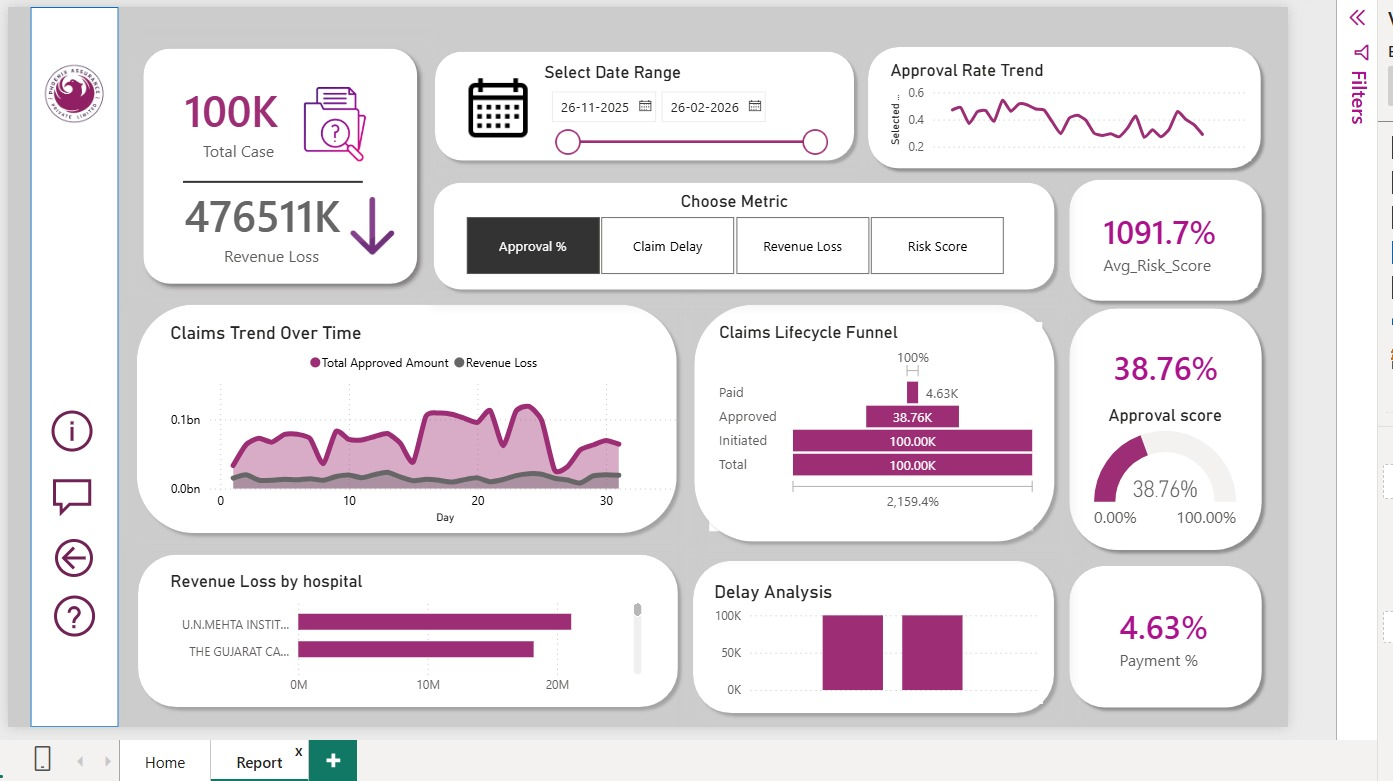

The page's visual inventory and layout, read from the dashboard file:
{"tool":"powerbi","page":{"name":"Report","canvas":[1280,720],"ordinal":1},"visuals":[{"type":"shape","box":[126.7,32.6,292,253.4],"z":0},{"type":"cardVisual","fields":{"Data":["ClaimsData.Total Case"]},"box":[147.2,55.5,166.5,117],"z":1000},{"type":"shape","box":[22.9,0,88.1,720.2],"z":2000},{"type":"cardVisual","fields":{"Data":["ClaimsData.Revenue Loss"]},"box":[147.2,165.3,232.8,107.4],"z":3000},{"type":"shape","box":[174.9,32.6,179.8,284.7],"z":4000},{"type":"shape","box":[419.8,37.4,433.1,123.1],"z":5000},{"type":"actionButton","box":[719,82.3,100.2,39.8],"z":6000},{"type":"image","box":[431.9,71.2,115.8,59.1],"z":7000},{"type":"slicer","title":"Select Date Range","fields":{"Values":["ClaimsData.claim_init_date"]},"box":[530.8,55.5,296.8,105],"z":8000},{"type":"shape","box":[121.9,289.5,555,243.7],"z":9000},{"type":"areaChart","title":"Claims Trend Over Time","fields":{"Y":["ClaimsData.Total Approved Amount","ClaimsData.Revenue Loss"],"Category":["ClaimsData.claim_init_date.Variation.Date Hierarchy.Year","ClaimsData.claim_init_date.Variation.Date Hierarchy.Quarter","ClaimsData.claim_init_date.Variation.Date Hierarchy.Month","ClaimsData.claim_init_date.Variation.Date Hierarchy.Day"]},"box":[158,311.3,520,212.3],"z":10000},{"type":"shape","box":[1053.2,165.3,207.5,136.3],"z":11000},{"type":"cardVisual","fields":{"Data":["ClaimsData.Avg_Risk_Score"]},"box":[1066.5,183.4,188.2,102.5],"z":12000},{"type":"shape","box":[1053.2,294.4,207.5,257],"z":13000},{"type":"cardVisual","fields":{"Data":["ClaimsData.Approval %"]},"box":[1076.1,320.9,168.9,76],"z":14000},{"type":"gauge","fields":{"Y":["ClaimsData.Approval %"]},"box":[1081,396.9,152,136.3],"z":15000},{"type":"shape","box":[1053.2,551.3,207.5,156.8],"z":16000},{"type":"cardVisual","fields":{"Data":["ClaimsData.Payment %"]},"box":[1082.2,579.1,156.8,102.5],"z":17000},{"type":"shape","box":[123.1,540.5,555,167.7],"z":18000},{"type":"clusteredBarChart","fields":{"Category":["ClaimsData.hospital_name"],"Y":["ClaimsData.Revenue Loss"]},"box":[158,563.4,481.4,132.7],"z":19000},{"type":"shape","box":[677.9,546.1,376,167.4],"z":20000},{"type":"clusteredColumnChart","title":"Delay Analysis","fields":{"Category":["DelayType.Type"],"Y":["CountNonNull(ClaimsData.payment_delay)1"]},"box":[701.2,573.6,333.4,123.5],"z":21000},{"type":"funnel","box":[701.2,347.2,323.8,177],"z":22000},{"type":"shape","box":[679.2,289.5,375.2,252.1],"z":23000},{"type":"funnel","title":"Claims Lifecycle Funnel","fields":{"Y":["CountNonNull(ClaimsData.payment_paid_dt)","CountNonNull(ClaimsData.claim_approved_date)","CountNonNull(ClaimsData.claim_init_date)","CountNonNull(ClaimsData.case_id)"]},"box":[705.8,314.9,328.2,194.2],"z":24000},{"type":"image","box":[0,53.1,126.7,70],"z":25000},{"type":"shape","box":[418.6,168.9,634.6,120.6],"z":26000},{"type":"slicer","title":"Choose Metric","fields":{"Values":["KPI Selector.Metric"]},"box":[431.9,183.4,587.5,90.5],"z":27000},{"type":"shape","title":"“KPI Trend Analysis","box":[853,32.6,407.8,136.3],"z":28000},{"type":"lineChart","fields":{"Category":["ClaimsData.claim_init_date.Variation.Date Hierarchy.Year","ClaimsData.claim_init_date.Variation.Date Hierarchy.Quarter","ClaimsData.claim_init_date.Variation.Date Hierarchy.Month","ClaimsData.claim_init_date.Variation.Date Hierarchy.Day"],"Y":["KPI Selector.Selected KPI"]},"box":[877.1,53.1,365.6,101.3],"z":29000},{"type":"actionButton","box":[41,526,66.4,49.5],"z":30000},{"type":"actionButton","box":[39.8,465.7,66.4,48.3],"z":31000},{"type":"actionButton","box":[37.4,396.9,76,53.1],"z":32000},{"type":"actionButton","box":[39.8,582.7,118.2,53.1],"z":33000},{"type":"image","box":[265.4,79.6,124.3,74.8],"z":34000},{"type":"image","box":[289.5,189.4,109.8,60.3],"z":35000}]}

Visuals, with their boxes on the page's 1280x720 design canvas (x1, y1, x2, y2). These are canvas units, not pixel positions in the 1393x781 screenshot, which may show the page scaled, cropped or inside an application window:
shape: x1=127, y1=33, x2=419, y2=286
cardVisual - ClaimsData.Total Case: x1=147, y1=56, x2=314, y2=172
shape: x1=23, y1=0, x2=111, y2=720
cardVisual - ClaimsData.Revenue Loss: x1=147, y1=165, x2=380, y2=273
shape: x1=175, y1=33, x2=355, y2=317
shape: x1=420, y1=37, x2=853, y2=160
actionButton: x1=719, y1=82, x2=819, y2=122
image: x1=432, y1=71, x2=548, y2=130
"Select Date Range" slicer: x1=531, y1=56, x2=828, y2=160
shape: x1=122, y1=290, x2=677, y2=533
"Claims Trend Over Time" areaChart: x1=158, y1=311, x2=678, y2=524
shape: x1=1053, y1=165, x2=1261, y2=302
cardVisual - ClaimsData.Avg_Risk_Score: x1=1066, y1=183, x2=1255, y2=286
shape: x1=1053, y1=294, x2=1261, y2=551
cardVisual - ClaimsData.Approval %: x1=1076, y1=321, x2=1245, y2=397
gauge - ClaimsData.Approval %: x1=1081, y1=397, x2=1233, y2=533
shape: x1=1053, y1=551, x2=1261, y2=708
cardVisual - ClaimsData.Payment %: x1=1082, y1=579, x2=1239, y2=682
shape: x1=123, y1=540, x2=678, y2=708
clusteredBarChart - ClaimsData.hospital_name x ClaimsData.Revenue Loss: x1=158, y1=563, x2=639, y2=696
shape: x1=678, y1=546, x2=1054, y2=714
"Delay Analysis" clusteredColumnChart: x1=701, y1=574, x2=1035, y2=697
funnel: x1=701, y1=347, x2=1025, y2=524
shape: x1=679, y1=290, x2=1054, y2=542
"Claims Lifecycle Funnel" funnel: x1=706, y1=315, x2=1034, y2=509
image: x1=0, y1=53, x2=127, y2=123
shape: x1=419, y1=169, x2=1053, y2=290
"Choose Metric" slicer: x1=432, y1=183, x2=1019, y2=274
"“KPI Trend Analysis" shape: x1=853, y1=33, x2=1261, y2=169
lineChart - ClaimsData.claim_init_date.Variation.Date Hierarchy.Year x ClaimsData.claim_init_date.Variation.Date Hierarchy.Quarter: x1=877, y1=53, x2=1243, y2=154
actionButton: x1=41, y1=526, x2=107, y2=576
actionButton: x1=40, y1=466, x2=106, y2=514
actionButton: x1=37, y1=397, x2=113, y2=450
actionButton: x1=40, y1=583, x2=158, y2=636
image: x1=265, y1=80, x2=390, y2=154
image: x1=290, y1=189, x2=399, y2=250
